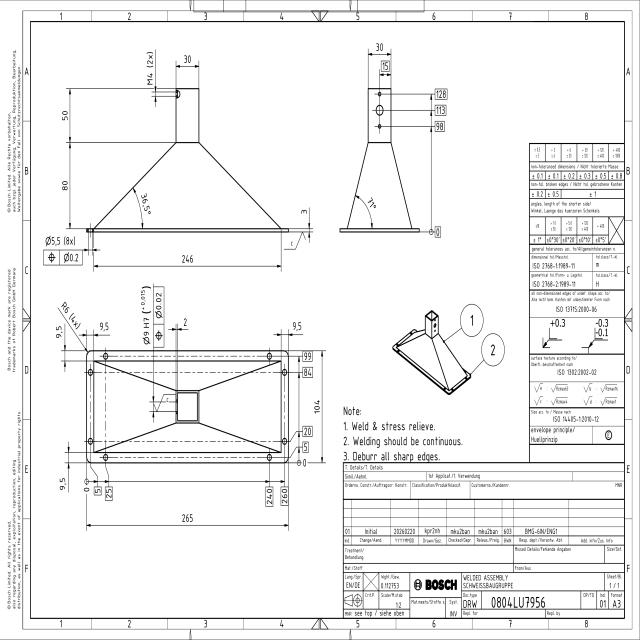dimension: (84, 511, 290, 534), (90, 251, 282, 272), (56, 297, 90, 355), (313, 348, 327, 466), (59, 141, 74, 230), (352, 192, 380, 231), (130, 185, 152, 230), (60, 85, 75, 146), (138, 282, 152, 347), (145, 47, 158, 108), (272, 319, 304, 342), (79, 320, 112, 341), (298, 204, 315, 244), (364, 39, 393, 61), (173, 52, 200, 75), (44, 234, 78, 248), (57, 462, 71, 494), (168, 316, 190, 336), (428, 86, 448, 107), (54, 322, 67, 350), (279, 477, 291, 507), (264, 478, 276, 508), (377, 59, 392, 79), (294, 365, 314, 380), (294, 424, 312, 440), (428, 104, 448, 117), (428, 120, 446, 134), (294, 350, 312, 363), (427, 225, 442, 239), (294, 441, 310, 454), (82, 478, 91, 497), (92, 484, 103, 498), (105, 485, 114, 502), (296, 457, 308, 468)
